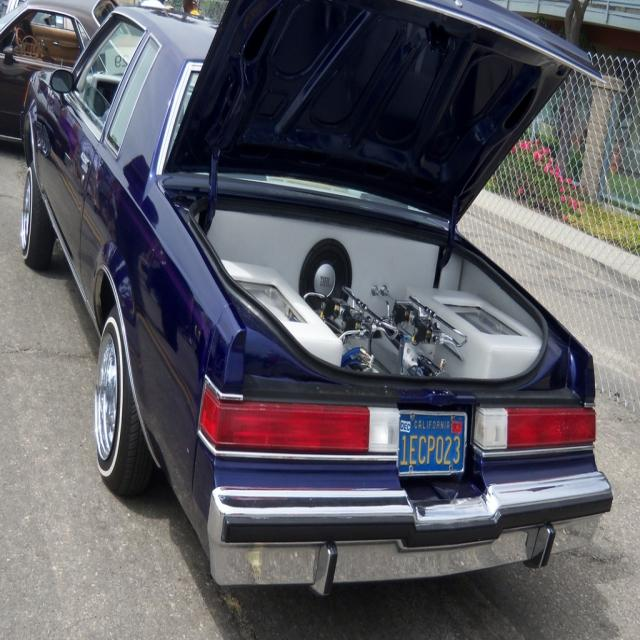car: (0, 0, 129, 146)
